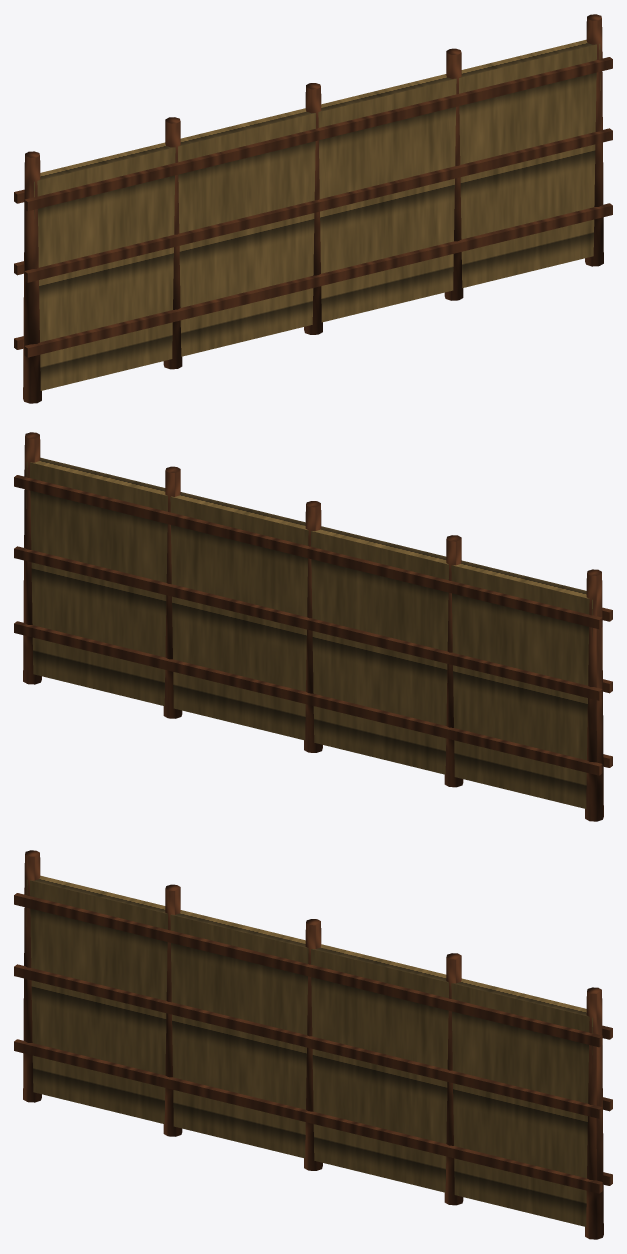
The model's file is veli_olaveli_fence.glb.
The picture shows the model from 3 angles, top to bottom: view 1: azimuth 30°, elevation 25°; view 2: azimuth 150°, elevation 25°; view 3: azimuth 330°, elevation 25°; orthographic projection.
Visible parts, largest first — view 1: veli_olaveli_fence; view 2: veli_olaveli_fence; view 3: veli_olaveli_fence.
Boxes of the visible parts, x1,y1,x2,y2 form: veli_olaveli_fence: [14, 14, 612, 403]; veli_olaveli_fence: [14, 432, 612, 821]; veli_olaveli_fence: [14, 850, 612, 1239].
Size of the model in its own units: 3.6 by 1.44 by 0.145.
Materials: 2 (2 with a texture image).
